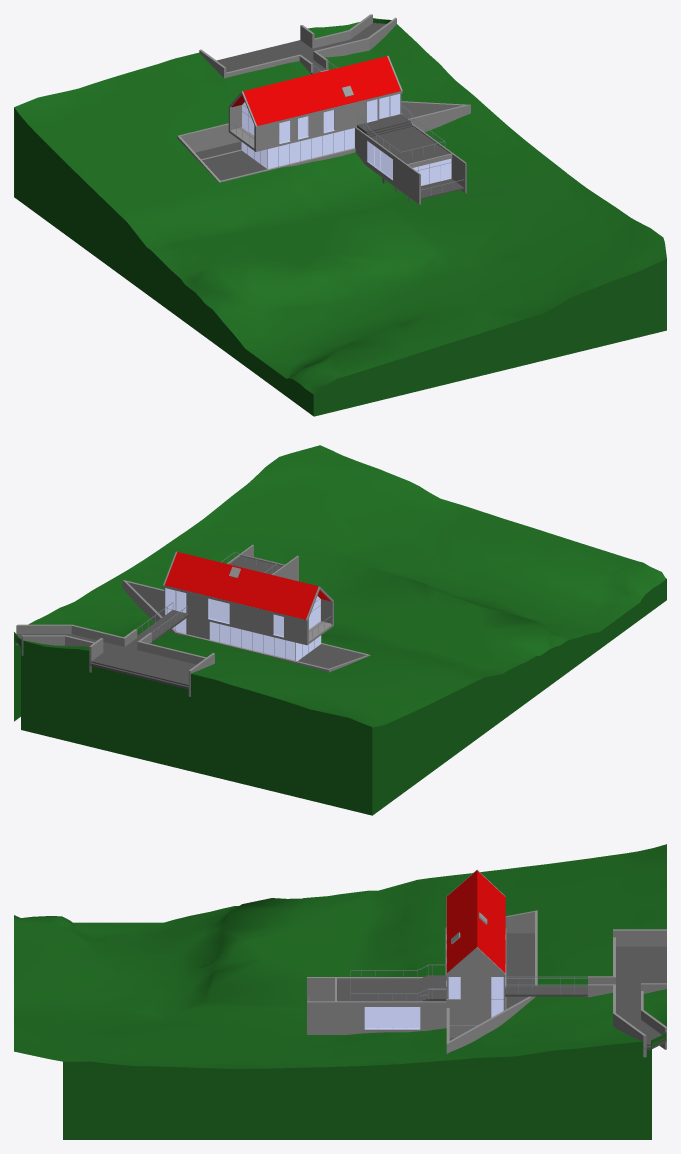
The picture shows the model from 3 angles, top to bottom: view 1: azimuth 30°, elevation 25°; view 2: azimuth 150°, elevation 25°; view 3: azimuth 270°, elevation 25°; orthographic projection. The views are drawn at different scales.
Parts seen in each view (by area): view 1: Superficie [411452], Cubierta básica SG Metal Panels roof [243274], Muro básico SIP 202mm Wall - conc clad [428745], Losa de cimentación 150mm Foundation Slab [766598], Cubierta básica Warm Roof - Timber [724430], Muro básico Wall - Timber Clad [849032], Suelo Concrete-Domestic 425mm [495352], Muro básico CL_W1 [493697], Muro básico Foundation - 300mm Concrete [493879], Escalera prefabricada Escalera [725045], Muro básico CL_W1 [493790], Muro básico Retaining - 300mm Concrete [746235]; view 2: Superficie [411452], Superficie [490318], Cubierta básica SG Metal Panels roof [243274], Muro básico SIP 202mm Wall - conc clad [428588], Losa de cimentación 150mm Foundation Slab [766598], Suelo Concrete-Domestic 425mm [495352], Suelo Insitu Concrete 225mm [764691], Muro básico Retaining - 300mm Concrete [745997], Muro básico Foundation - 300mm Concrete [493879], Muro básico Retaining - 300mm Concrete [746766], Muro básico Retaining - 300mm Concrete [746235]; view 3: Superficie [411452], Cubierta básica SG Metal Panels roof [243274], Muro básico Wall - Timber Clad [427092], Losa de cimentación 150mm Foundation Slab [766598], Cubierta básica Warm Roof - Timber [724430], Muro básico SIP 202mm Wall - conc clad [198694], Suelo Insitu Concrete 225mm [647908], Muro básico CL_W1 [493790], Suelo Insitu Concrete 225mm [764691], Muro básico Wall - Timber Clad [849032], Muro básico Retaining - 300mm Concrete [599841], Superficie [490318] (+3 smaller).
Boxes of the visible parts, <box> form: Superficie [411452]: <box>14,18,666,416</box>; Cubierta básica SG Metal Panels roof [243274]: <box>232,56,400,125</box>; Muro básico SIP 202mm Wall - conc clad [428745]: <box>257,91,401,151</box>; Losa de cimentación 150mm Foundation Slab [766598]: <box>216,23,385,72</box>; Cubierta básica Warm Roof - Timber [724430]: <box>370,126,449,163</box>; Muro básico Wall - Timber Clad [849032]: <box>355,127,420,204</box>; Suelo Concrete-Domestic 425mm [495352]: <box>202,150,266,180</box>; Muro básico CL_W1 [493697]: <box>178,123,240,152</box>; Muro básico Foundation - 300mm Concrete [493879]: <box>408,105,467,132</box>; Escalera prefabricada Escalera [725045]: <box>357,114,412,136</box>; Muro básico CL_W1 [493790]: <box>401,101,470,118</box>; Muro básico Retaining - 300mm Concrete [746235]: <box>313,37,371,60</box>; Superficie [411452]: <box>14,445,666,815</box>; Superficie [490318]: <box>14,632,190,771</box>; Cubierta básica SG Metal Panels roof [243274]: <box>164,552,330,619</box>; Muro básico SIP 202mm Wall - conc clad [428588]: <box>164,585,305,644</box>; Losa de cimentación 150mm Foundation Slab [766598]: <box>16,634,196,685</box>; Suelo Concrete-Domestic 425mm [495352]: <box>298,644,366,668</box>; Suelo Insitu Concrete 225mm [764691]: <box>125,610,189,649</box>; Muro básico Retaining - 300mm Concrete [745997]: <box>137,641,206,664</box>; Muro básico Foundation - 300mm Concrete [493879]: <box>126,580,164,616</box>; Muro básico Retaining - 300mm Concrete [746766]: <box>16,624,71,645</box>; Muro básico Retaining - 300mm Concrete [746235]: <box>68,624,125,646</box>; Superficie [411452]: <box>14,844,666,1139</box>; Cubierta básica SG Metal Panels roof [243274]: <box>446,870,505,973</box>; Muro básico Wall - Timber Clad [427092]: <box>307,1001,490,1034</box>; Losa de cimentación 150mm Foundation Slab [766598]: <box>616,946,666,1045</box>; Cubierta básica Warm Roof - Timber [724430]: <box>337,979,420,1001</box>; Muro básico SIP 202mm Wall - conc clad [198694]: <box>446,947,505,1002</box>; Suelo Insitu Concrete 225mm [647908]: <box>506,933,534,1008</box>; Muro básico CL_W1 [493790]: <box>446,996,534,1053</box>; Suelo Insitu Concrete 225mm [764691]: <box>505,985,587,996</box>; Muro básico Wall - Timber Clad [849032]: <box>307,977,422,1001</box>; Muro básico Retaining - 300mm Concrete [599841]: <box>613,929,666,946</box>; Superficie [490318]: <box>643,1033,666,1139</box>.
Size of the model in its own units: 50.43 by 17.52 by 70.36.
